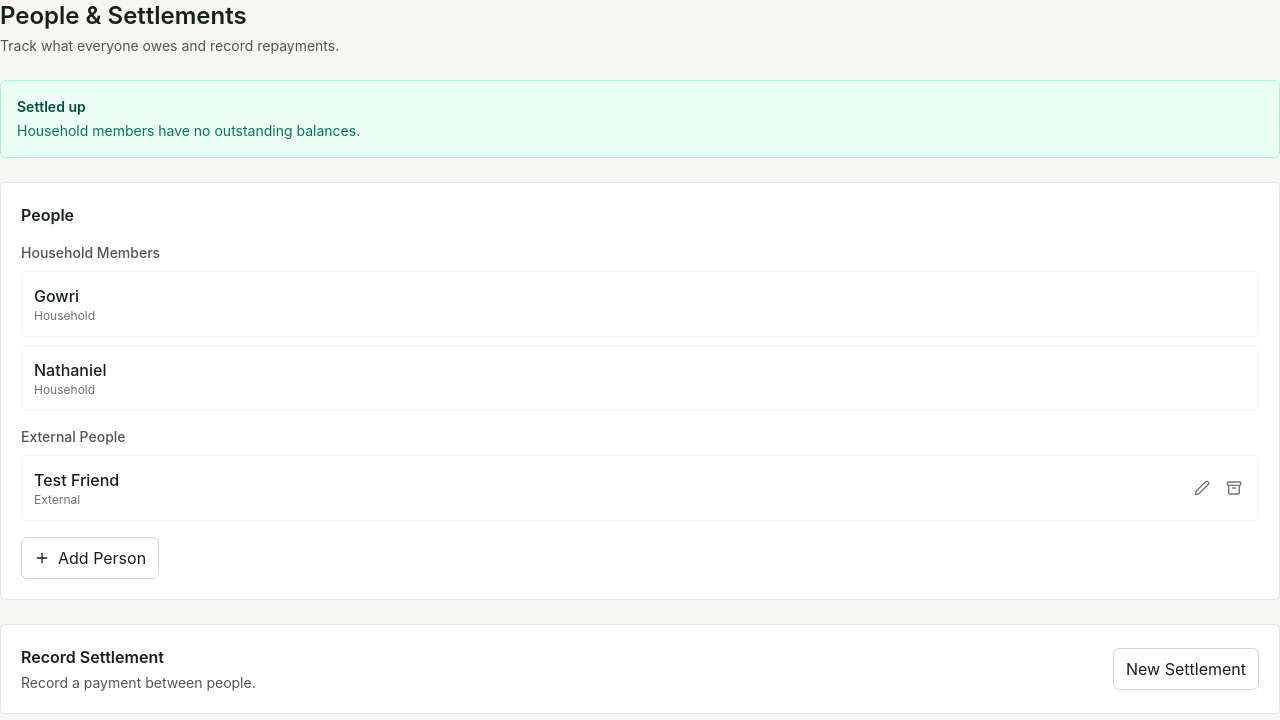
Test: PeoplePage › Edit dialog rejects empty name
The image size is (1280, 720).
Click edit button
Click the button titled "Edit person name": x=1202, y=488 [1190,476,1214,500]
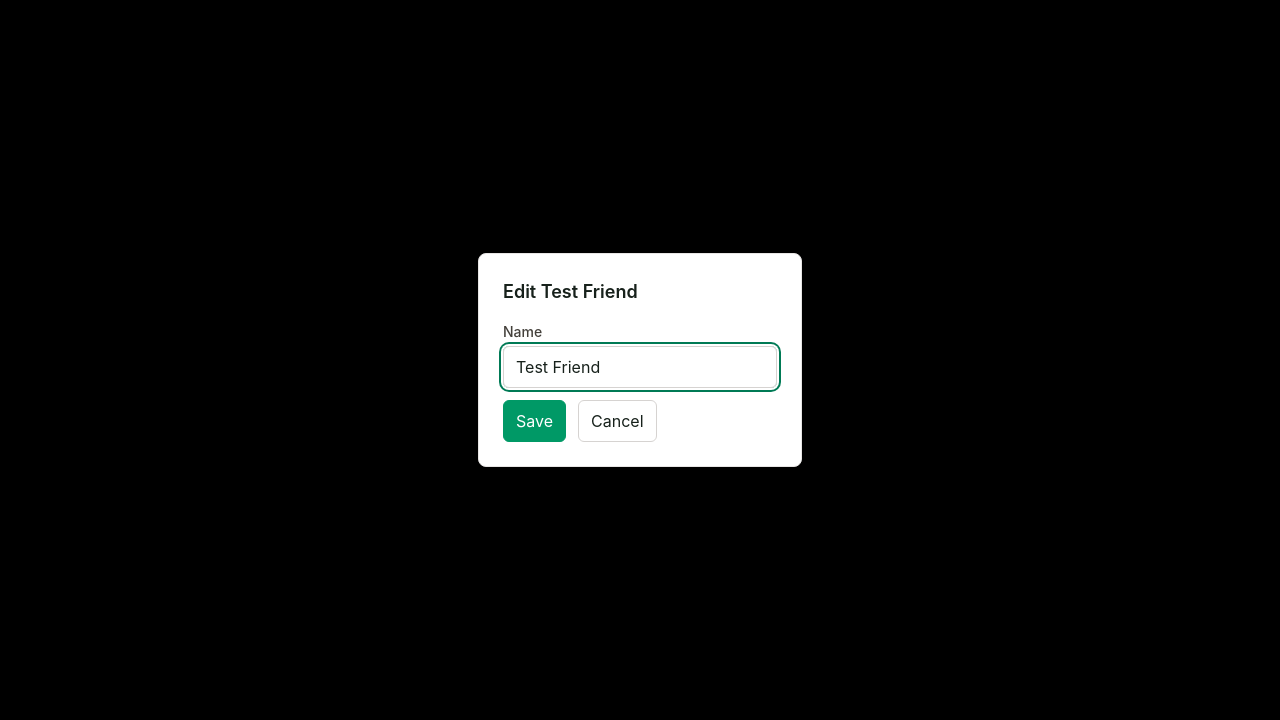
Clear name
Clear the field showing "Test Friend": x=640, y=367 [503,346,777,388]
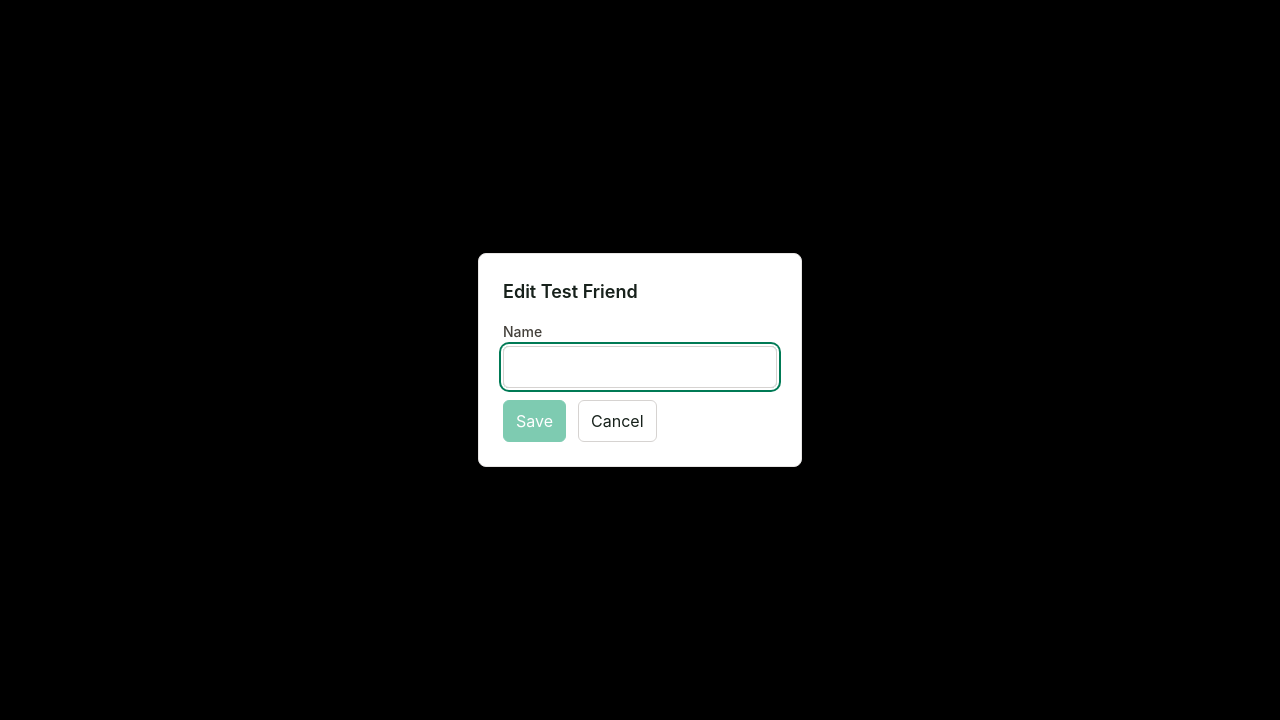
Check: the button "Save" is disabled, box [503,400,566,442]
